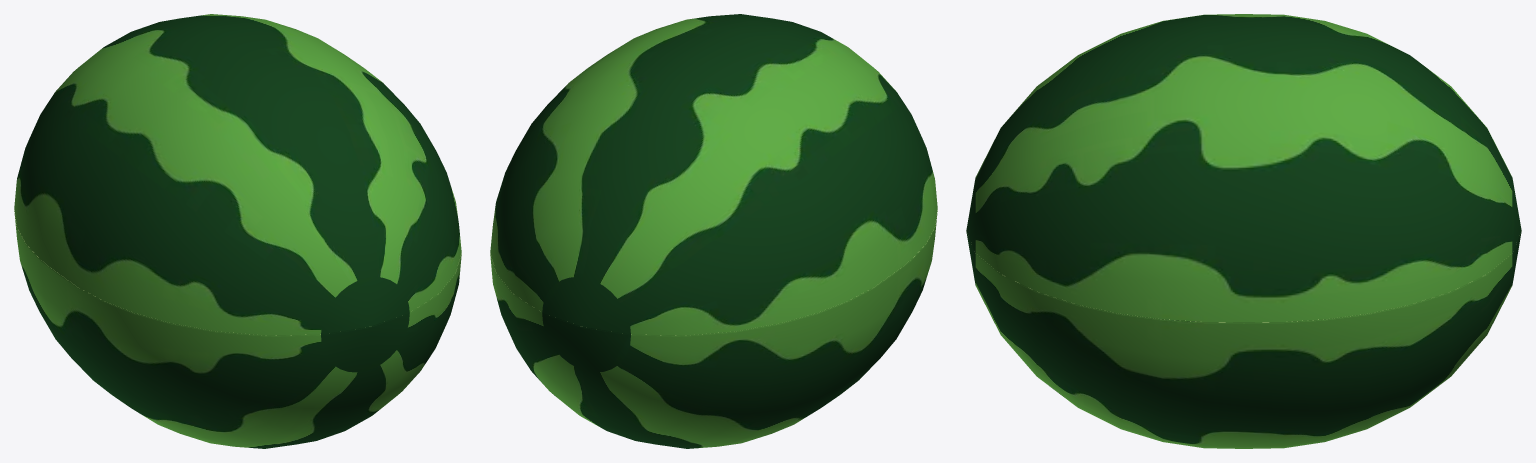
File: New_watermelon_pieces.fbx
The picture shows the model from 3 angles, left to right: view 1: azimuth 30°, elevation 25°; view 2: azimuth 150°, elevation 25°; view 3: azimuth 270°, elevation 25°; orthographic projection. The views are drawn at different scales.
Parts seen in each view (by area): view 1: Watermelon_piece_top, Watermelon_piece_bottom; view 2: Watermelon_piece_top, Watermelon_piece_bottom; view 3: Watermelon_piece_top, Watermelon_piece_bottom.
Part boxes in pixels (box(x1,y1,x2,y2)): Watermelon_piece_top: box(14, 14, 461, 336); Watermelon_piece_bottom: box(14, 210, 461, 448); Watermelon_piece_top: box(490, 14, 937, 336); Watermelon_piece_bottom: box(490, 210, 937, 448); Watermelon_piece_top: box(966, 14, 1521, 323); Watermelon_piece_bottom: box(966, 231, 1521, 448).
Bounding box in the file's own units: 802 × 802 × 1024.
